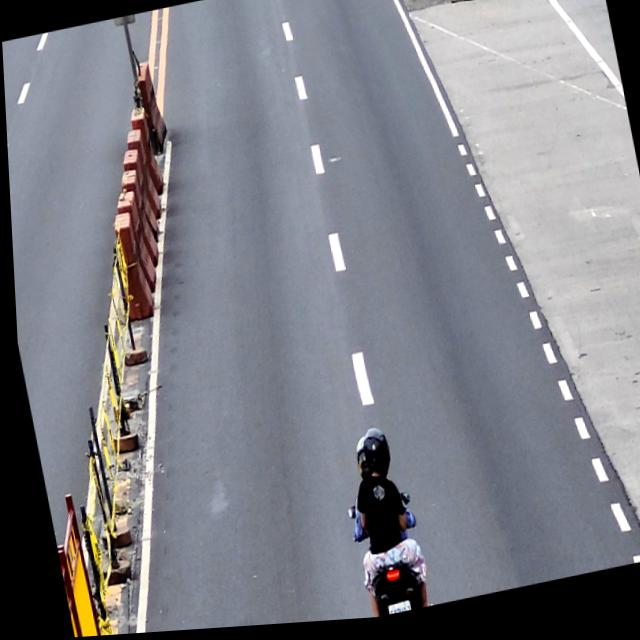Motorcycle: (334, 421, 425, 623)
